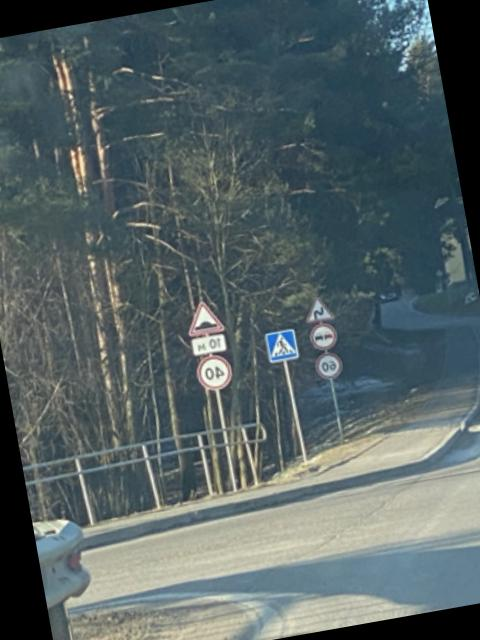crosswalk-sign: (268, 329, 300, 363)
